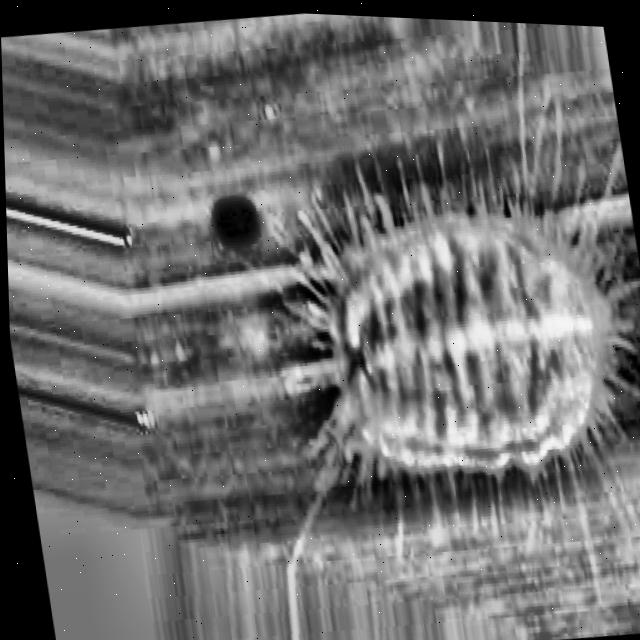Mealy-bug: (237, 95, 640, 545)
